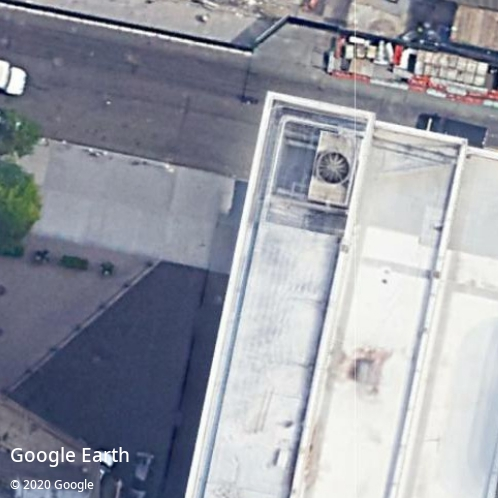Vent: (317, 152, 350, 184)
